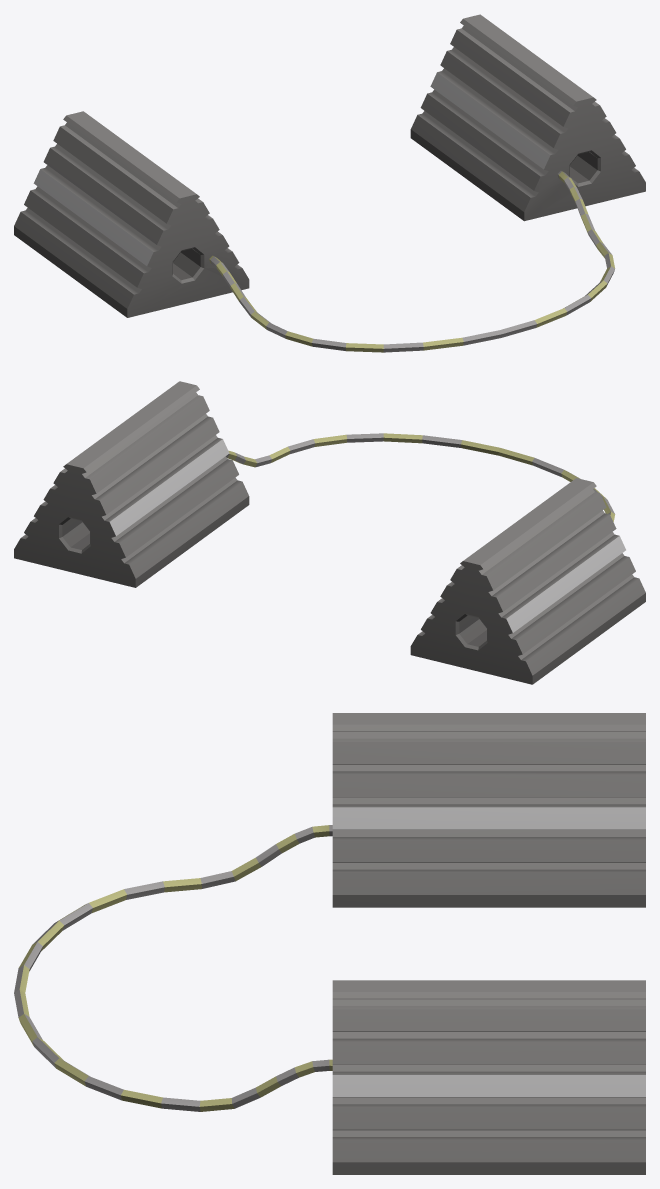
Rendered from chock.glb.
3 views of the same model, one above another, from view 1: azimuth 30°, elevation 25°; view 2: azimuth 150°, elevation 25°; view 3: azimuth 270°, elevation 25° (orthographic). The views are drawn at different scales.
Parts seen in each view (by area): view 1: chock; view 2: chock; view 3: chock.
Part boxes in pixels (x1=…): chock: x1=14, y1=14, x2=645, y2=352; chock: x1=14, y1=381, x2=645, y2=684; chock: x1=14, y1=713, x2=645, y2=1174.
Bounding box in the file's own units: 1.32 × 0.26 × 1.01.
